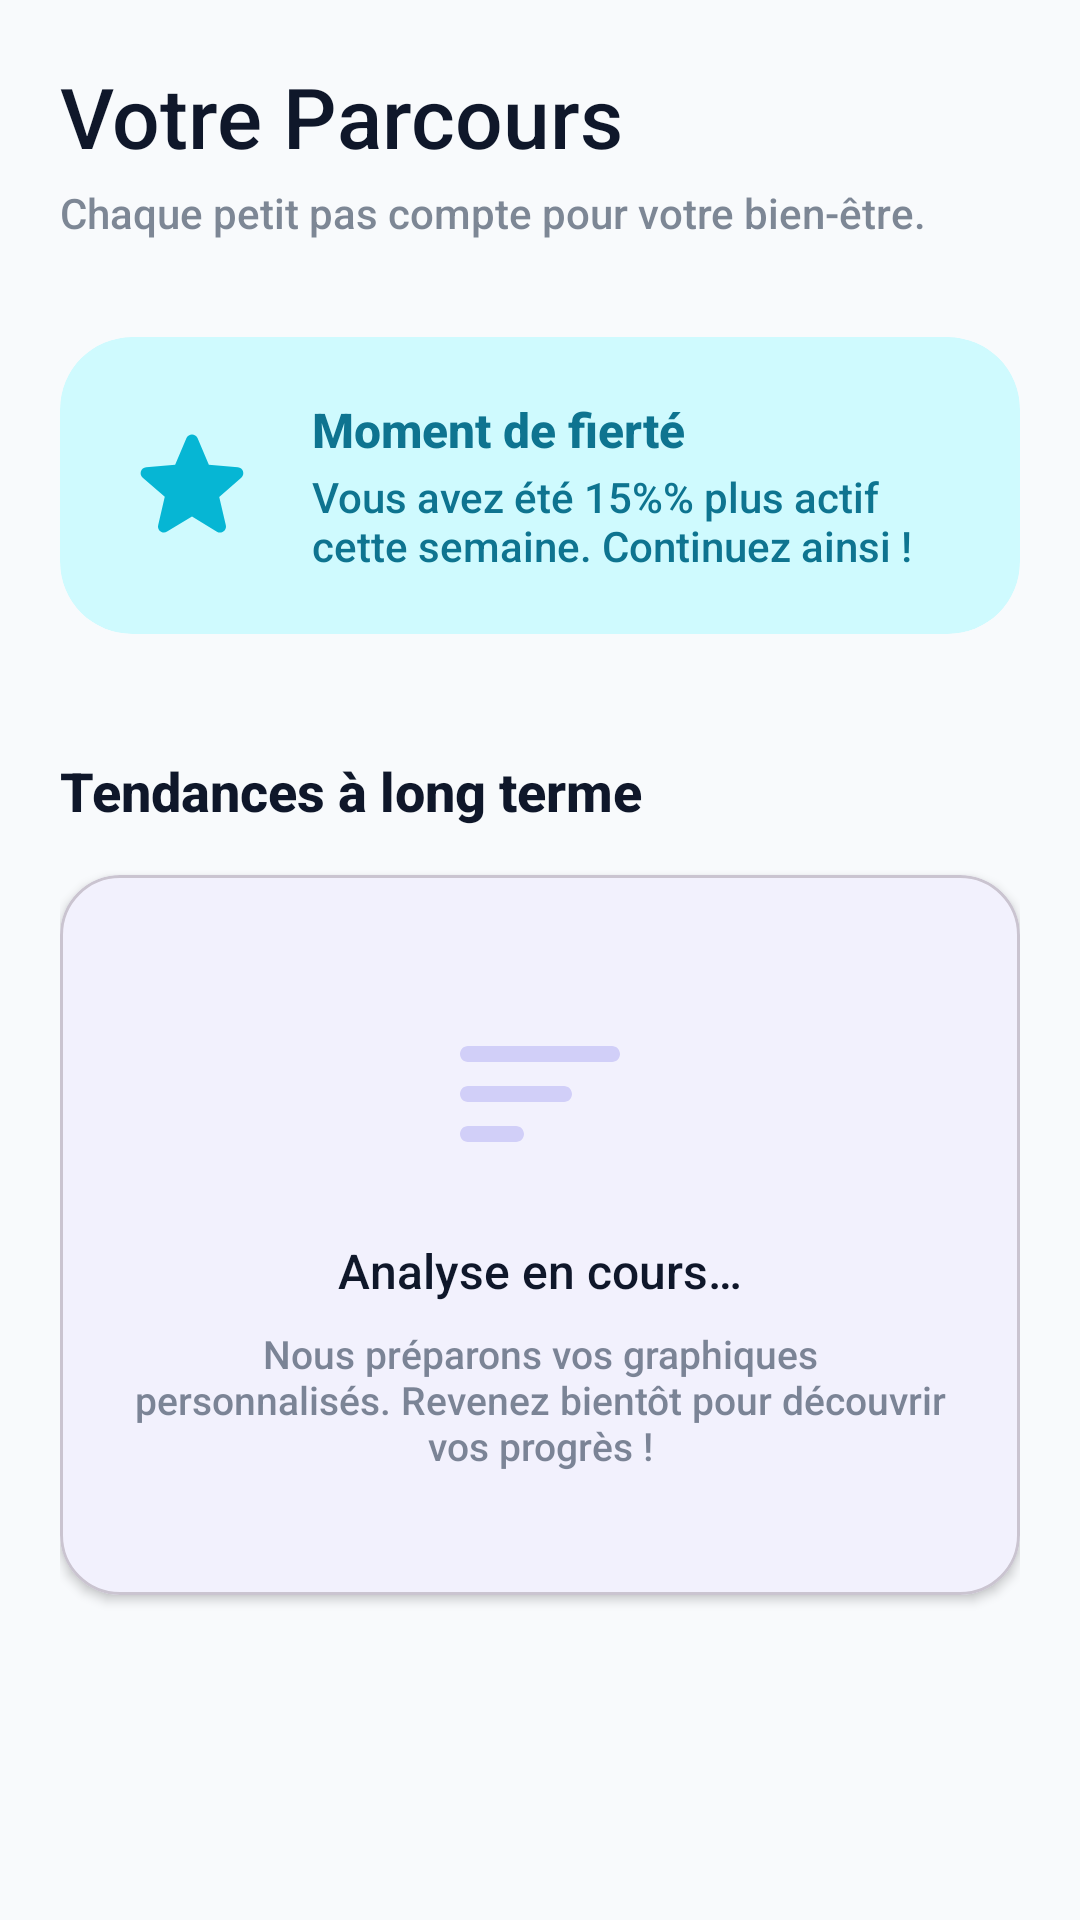

Icons on this 1080px x 1920px Android screen, each with its box as (x1, y1, x2, y2):
Étoile de réussite: (140, 434, 244, 533)
